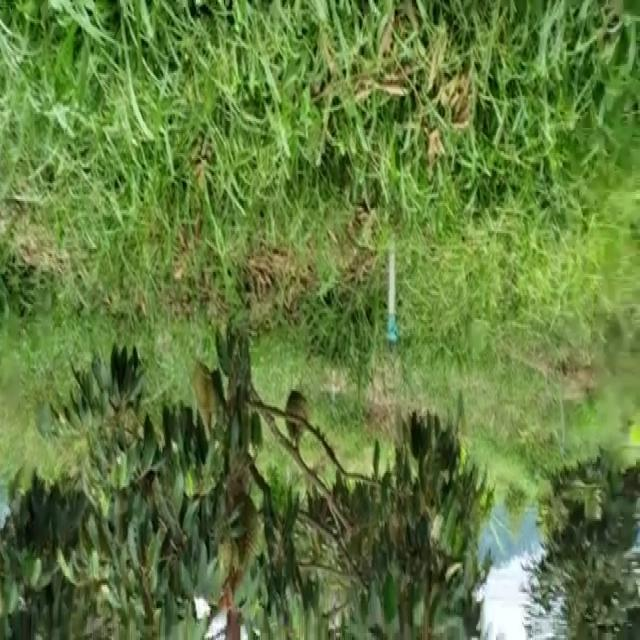durian: (223, 490, 261, 583), (282, 390, 312, 444)
